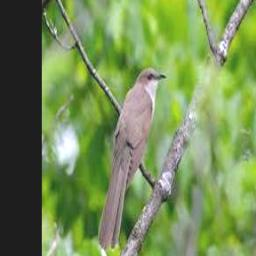Cuckoo: (98, 68, 166, 250)
